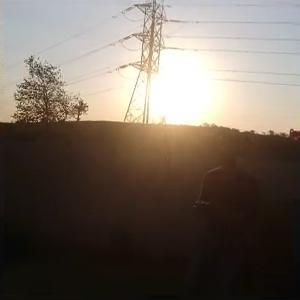follow: (189, 127, 263, 298)
